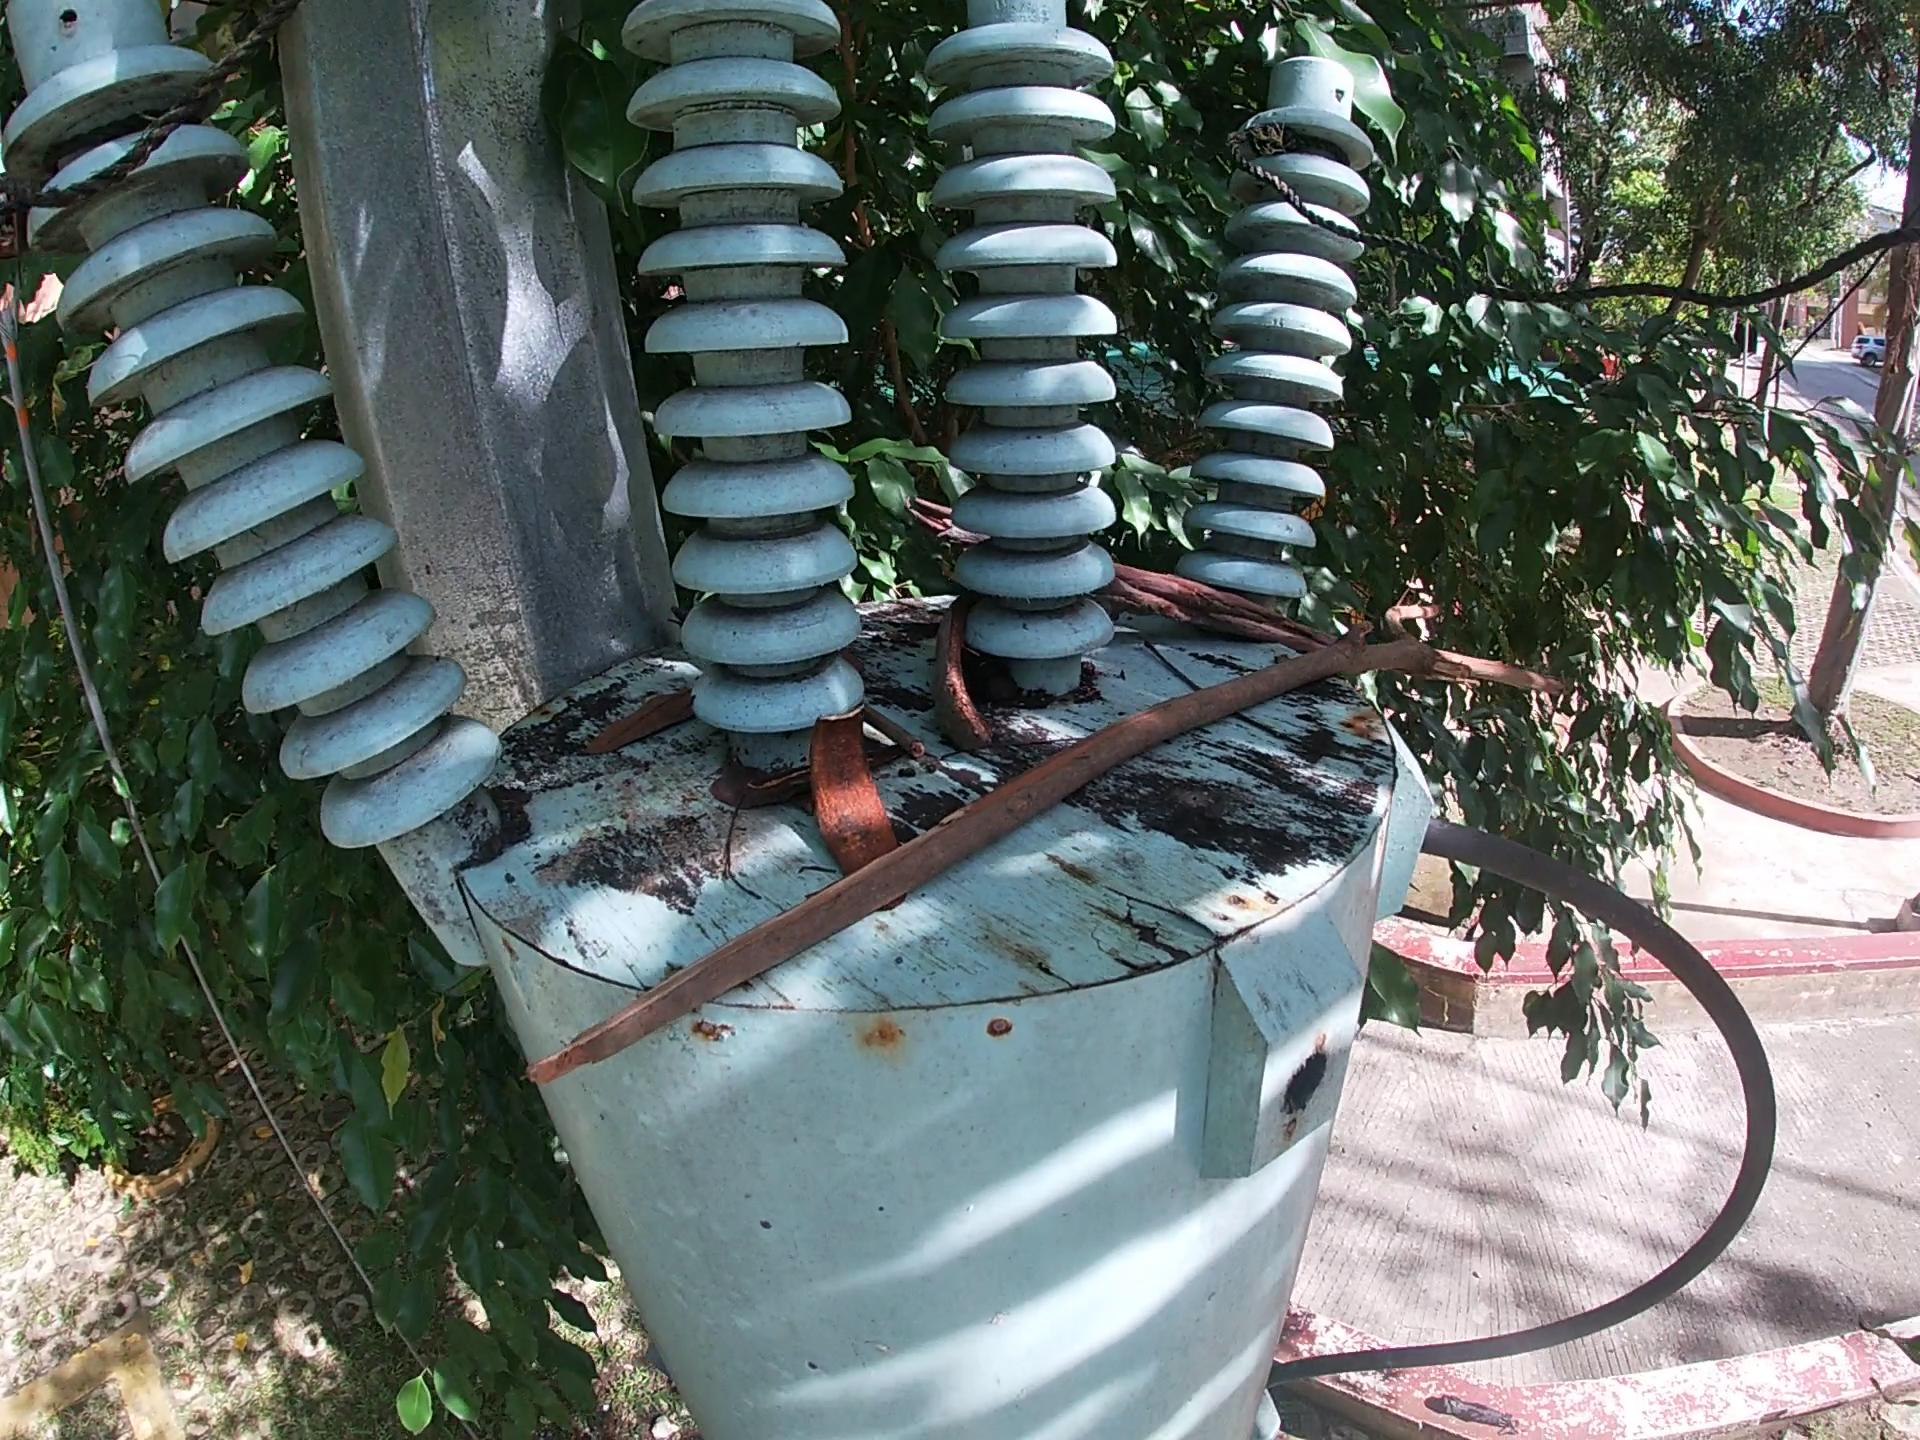leaf: (578, 685, 708, 764)
mahogany fruit: (803, 700, 903, 879), (924, 590, 996, 756)
tree branch: (513, 587, 1572, 1101), (903, 483, 1342, 661), (860, 697, 931, 767)
